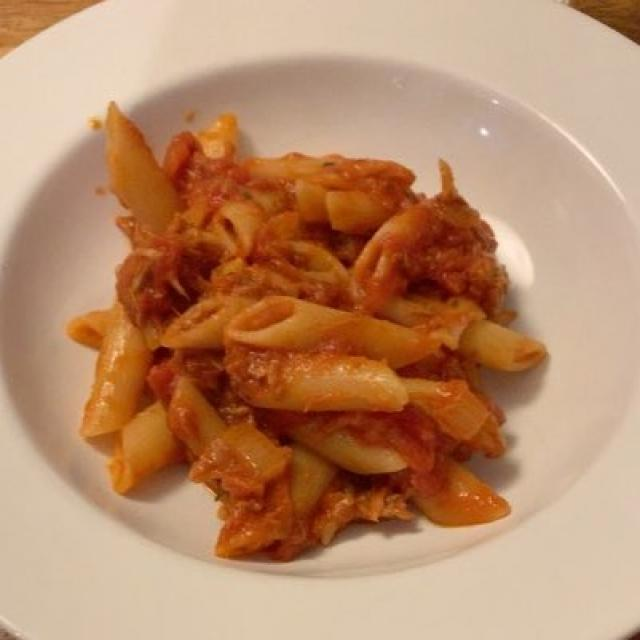pasta: (79, 111, 537, 551)
